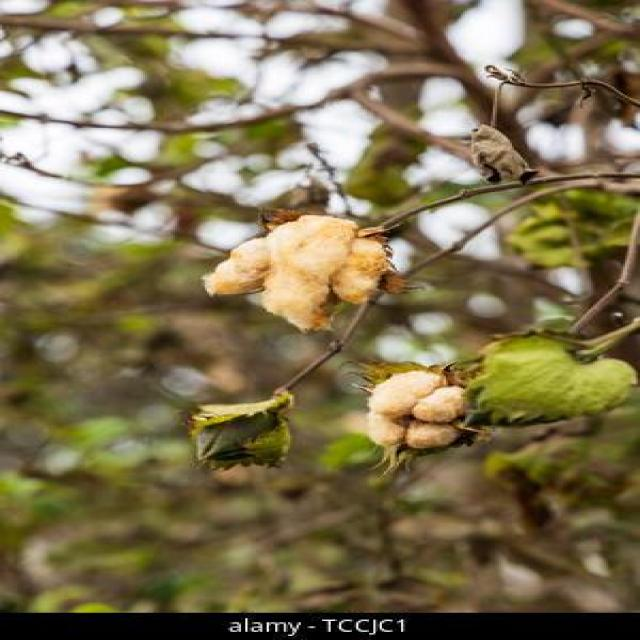Late_blight: (202, 203, 404, 325), (350, 364, 488, 457)
